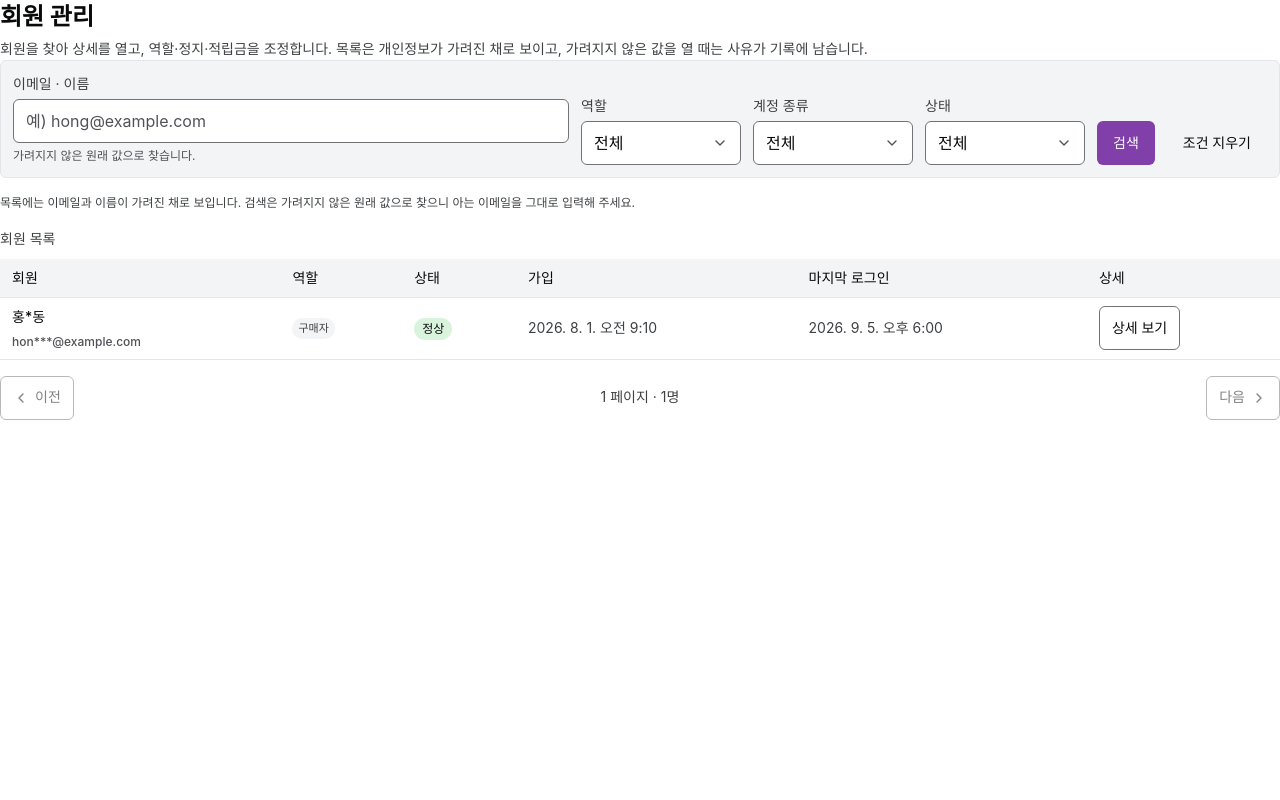
Test case: 열람 (F7) › identifies the account by its masked values, inside the dialog
Expected: the table "회원 목록" is shown, [0,228,1279,360]
Step 1. Click the button "상세 보기" → {"x": 1140, "y": 328}, box [1099,306,1180,350]
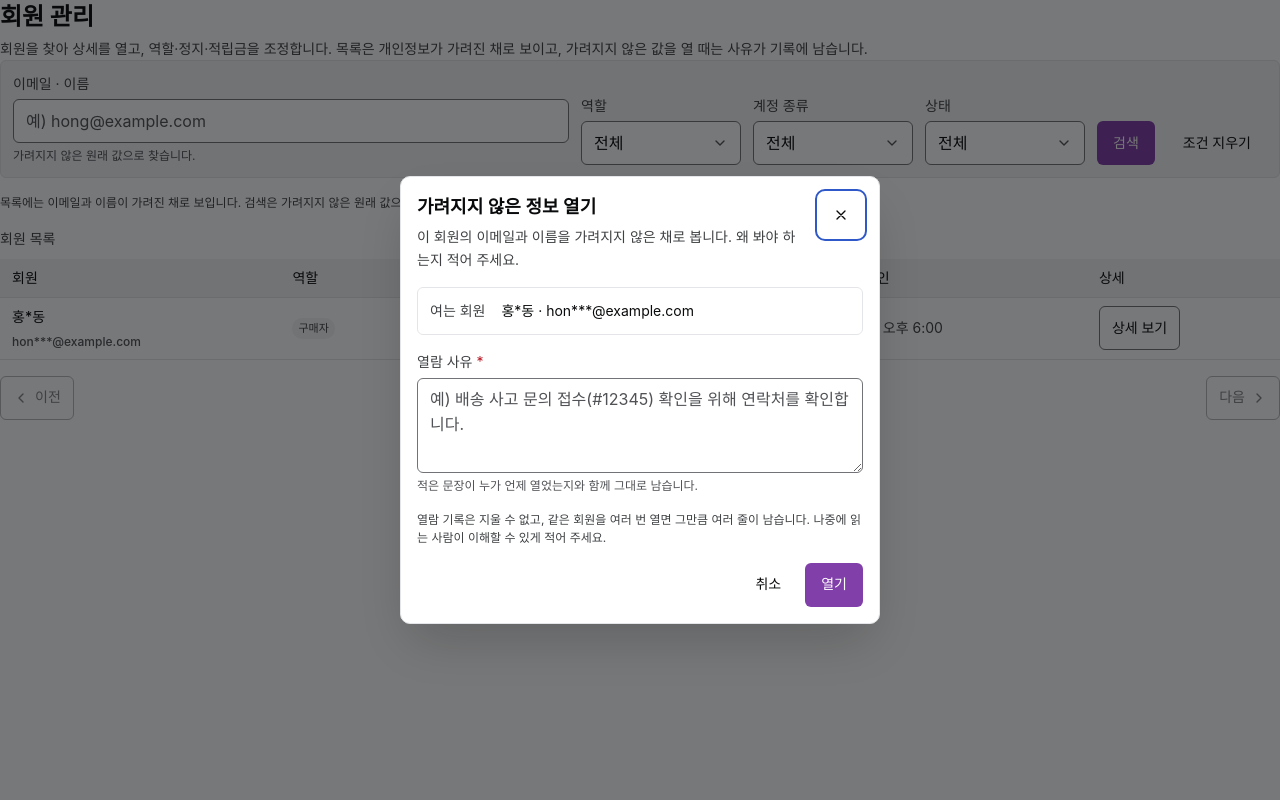
Now the text "홍*동 · hon***@example.com" is shown, box [502,302,694,319]
